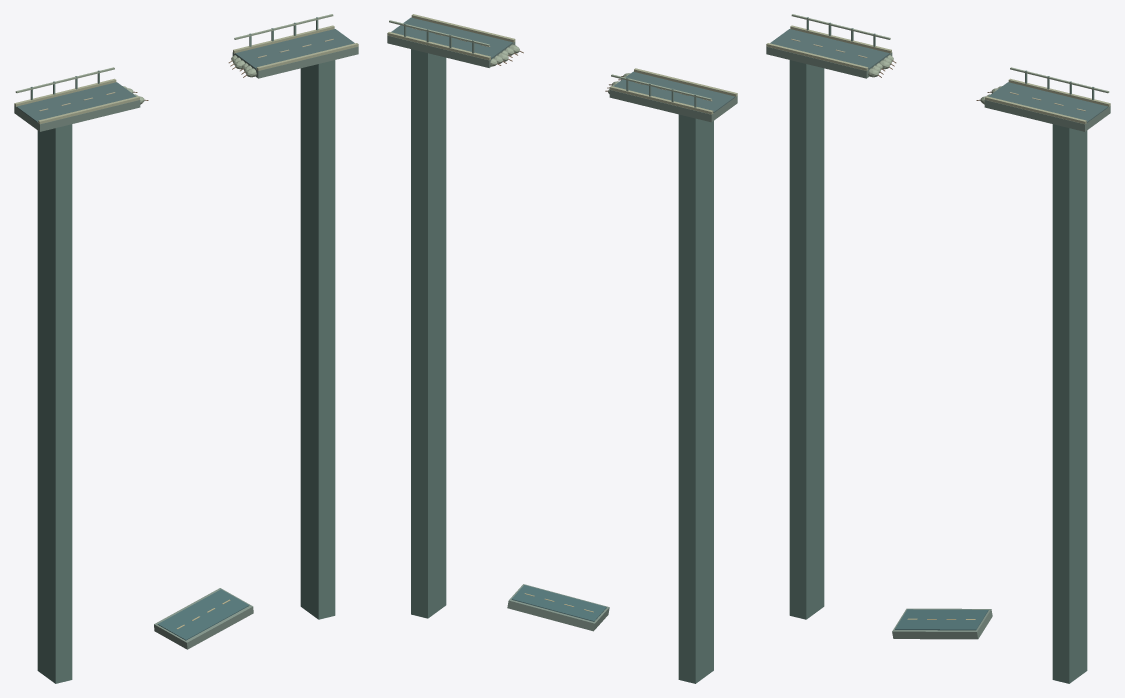
Rendered from bridge.glb.
The picture shows the model from 3 angles, left to right: view 1: azimuth 30°, elevation 25°; view 2: azimuth 150°, elevation 25°; view 3: azimuth 330°, elevation 25°; orthographic projection.
Visible parts, largest first — view 1: bridge; view 2: bridge; view 3: bridge.
Part boxes in pixels (left/top/right/bottom): bridge: left=14, top=14, right=358, bottom=683; bridge: left=387, top=14, right=737, bottom=683; bridge: left=766, top=14, right=1110, bottom=683.
Size of the model in its own units: 28.6 by 49.9 by 5.65.
